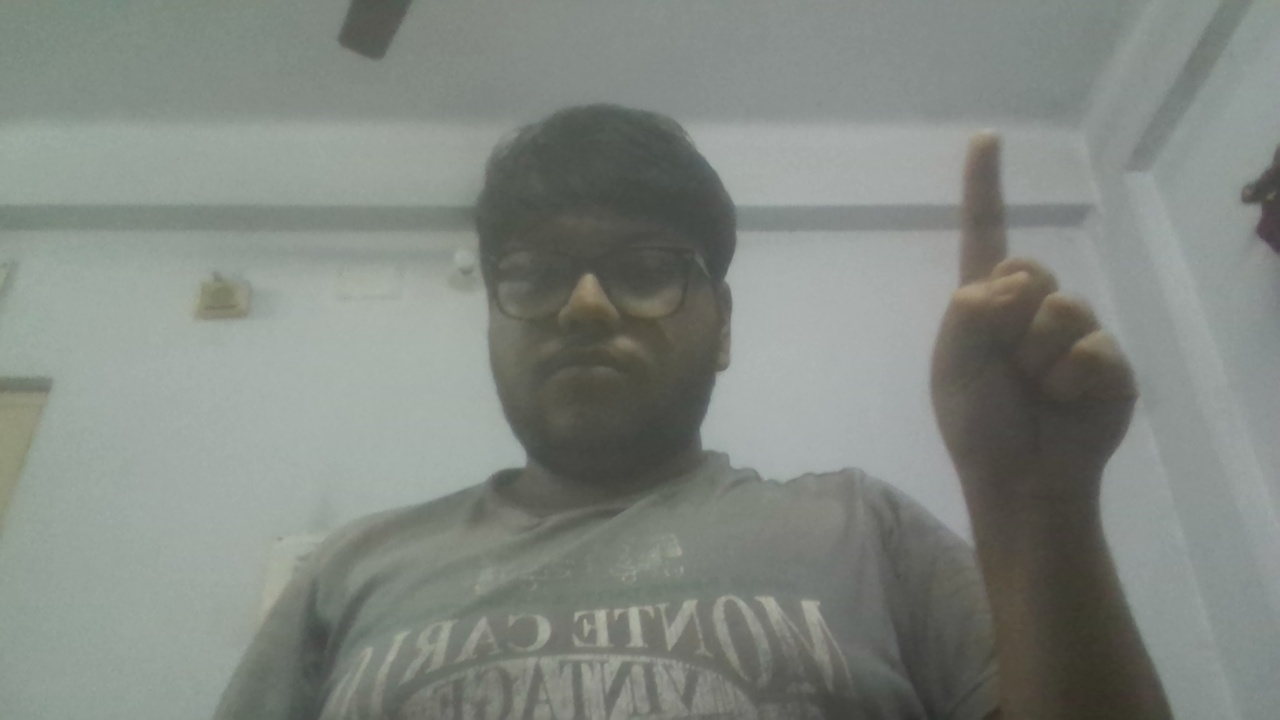Gesture1: (920, 117, 1147, 531)
